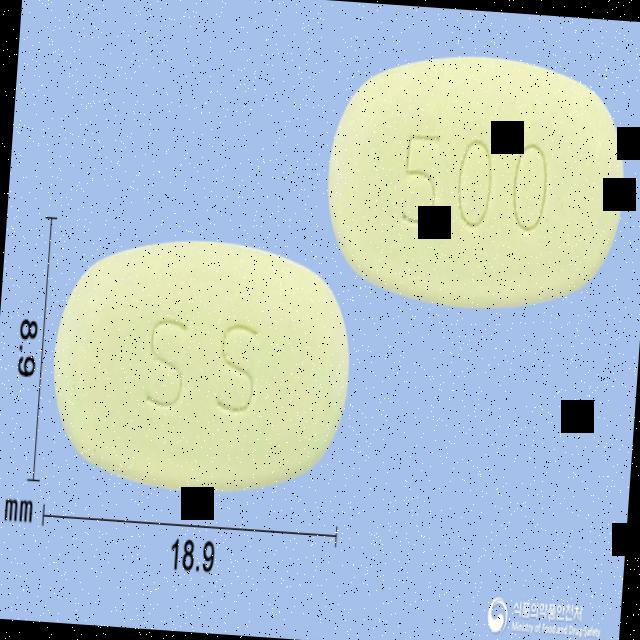Samsung Clarithromycin Tab-500mg: (44, 228, 360, 504), (320, 46, 633, 315)
